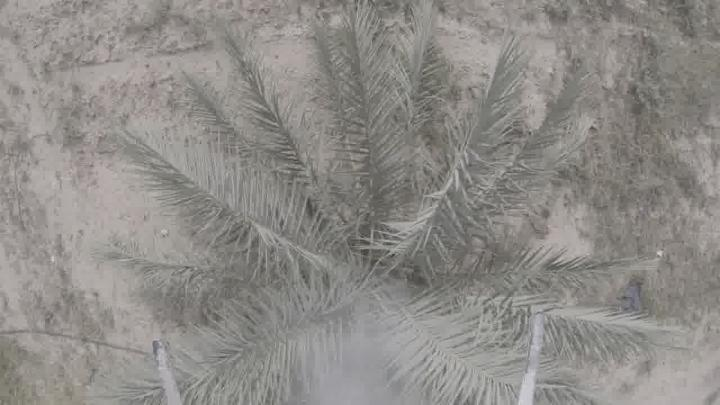Date-Palm-Crown: (231, 148, 505, 404)
